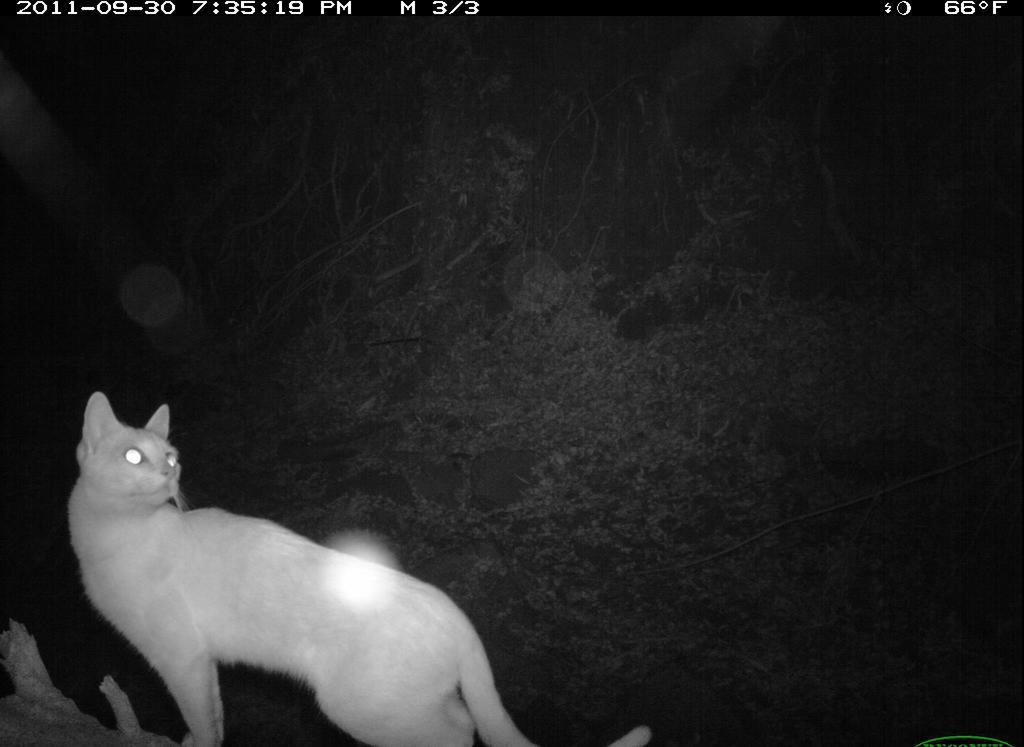cat: (68, 378, 649, 742)
